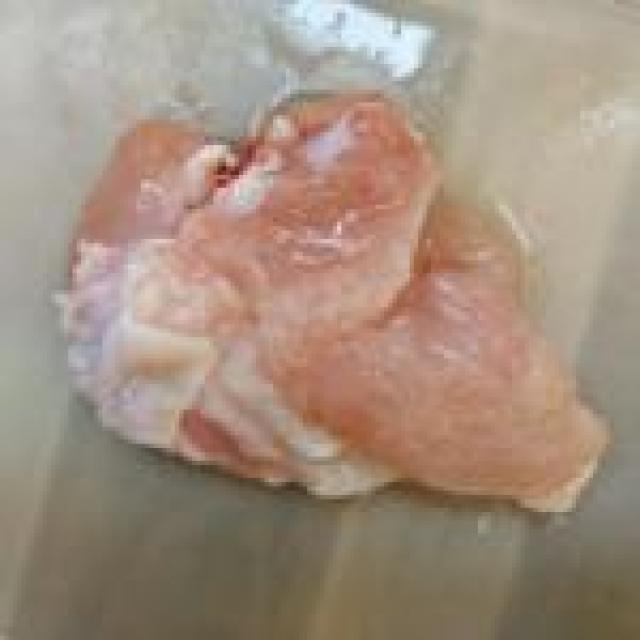breast: (65, 81, 598, 505)
